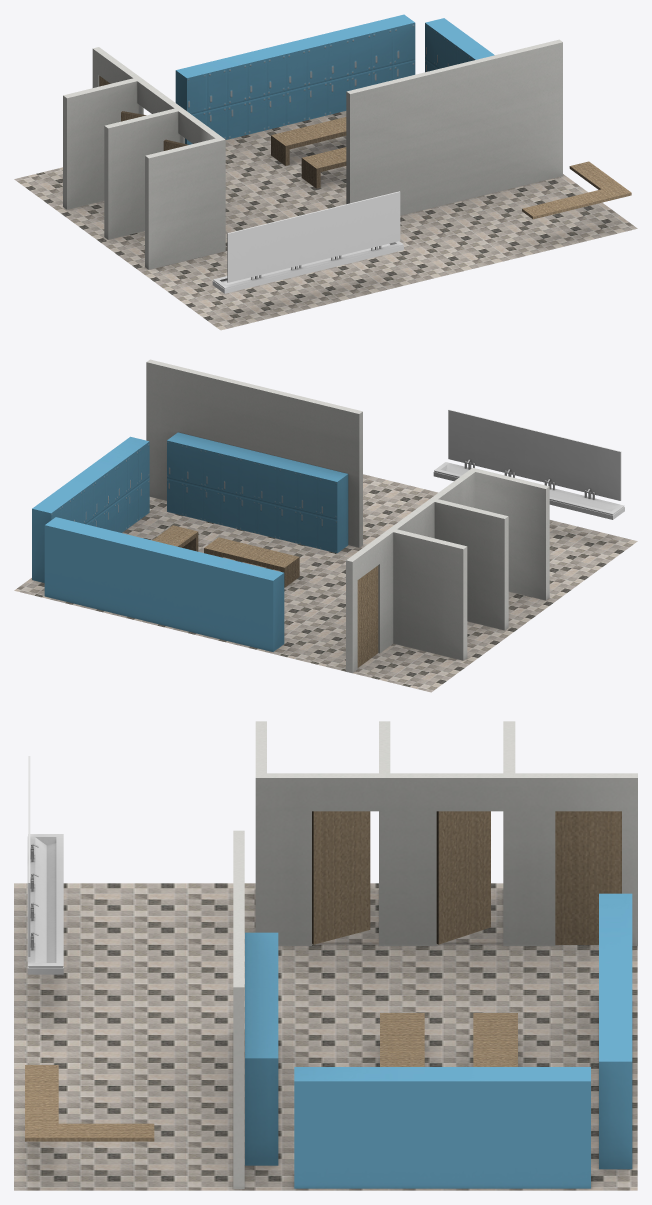
The model's file is vestier.FBX.
3 views of the same model, one above another, from view 1: azimuth 30°, elevation 25°; view 2: azimuth 150°, elevation 25°; view 3: azimuth 270°, elevation 25° (orthographic). The views are drawn at different scales.
Parts seen in each view (by area): view 1: Piso_Vestier, Pared1, Paredes_Vestieres, Casillero1, Espejo_Vestier, Casillero2, Meson, LavaboVestier, Silla1, Silla2; view 2: Paredes_Vestieres, Piso_Vestier, Casillero1, Pared1, Casillero3, Espejo_Vestier, Casillero2, PuertaV3, Silla2, LavaboVestier, silla3; view 3: Piso_Vestier, Paredes_Vestieres, Casillero2, Casillero1, Casillero3, PuertaV3, PuertaV1, PuertaV2, LavaboVestier, Meson, Pared1, Silla2 (+1 smaller).
Boxes of the visible parts, x1=… form: Piso_Vestier: x1=14, y1=111, x2=637, y2=330; Pared1: x1=346, y1=39, x2=562, y2=215; Paredes_Vestieres: x1=63, y1=47, x2=225, y2=269; Casillero1: x1=175, y1=14, x2=415, y2=144; Espejo_Vestier: x1=227, y1=191, x2=400, y2=282; Casillero2: x1=425, y1=18, x2=494, y2=72; Meson: x1=522, y1=161, x2=631, y2=219; LavaboVestier: x1=212, y1=241, x2=403, y2=293; Silla1: x1=271, y1=117, x2=346, y2=165; Silla2: x1=301, y1=147, x2=346, y2=188; Paredes_Vestieres: x1=346, y1=468, x2=549, y2=673; Piso_Vestier: x1=14, y1=474, x2=637, y2=692; Casillero1: x1=44, y1=517, x2=284, y2=651; Pared1: x1=146, y1=359, x2=362, y2=547; Casillero3: x1=167, y1=432, x2=348, y2=553; Espejo_Vestier: x1=448, y1=409, x2=621, y2=500; Casillero2: x1=32, y1=436, x2=149, y2=582; PuertaV3: x1=357, y1=565, x2=378, y2=667; Silla2: x1=204, y1=537, x2=299, y2=587; LavaboVestier: x1=433, y1=462, x2=624, y2=519; silla3: x1=152, y1=525, x2=198, y2=551; Piso_Vestier: x1=14, y1=883, x2=637, y2=1190; Paredes_Vestieres: x1=255, y1=721, x2=637, y2=945; Casillero2: x1=294, y1=1067, x2=590, y2=1188; Casillero1: x1=599, y1=893, x2=632, y2=1169; Casillero3: x1=245, y1=932, x2=278, y2=1165; PuertaV3: x1=555, y1=811, x2=621, y2=944; PuertaV1: x1=312, y1=811, x2=370, y2=944; PuertaV2: x1=436, y1=811, x2=490, y2=944; LavaboVestier: x1=27, y1=834, x2=63, y2=974; Meson: x1=25, y1=1065, x2=154, y2=1141; Pared1: x1=233, y1=830, x2=244, y2=1188; Silla2: x1=380, y1=1013, x2=424, y2=1066.
Bounding box in the file's own units: 9.8 × 3 × 8.41.
Materials: 1 (1 with a texture image).
